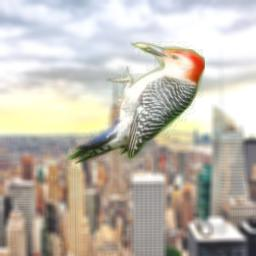Woodpecker: (62, 38, 205, 168)
